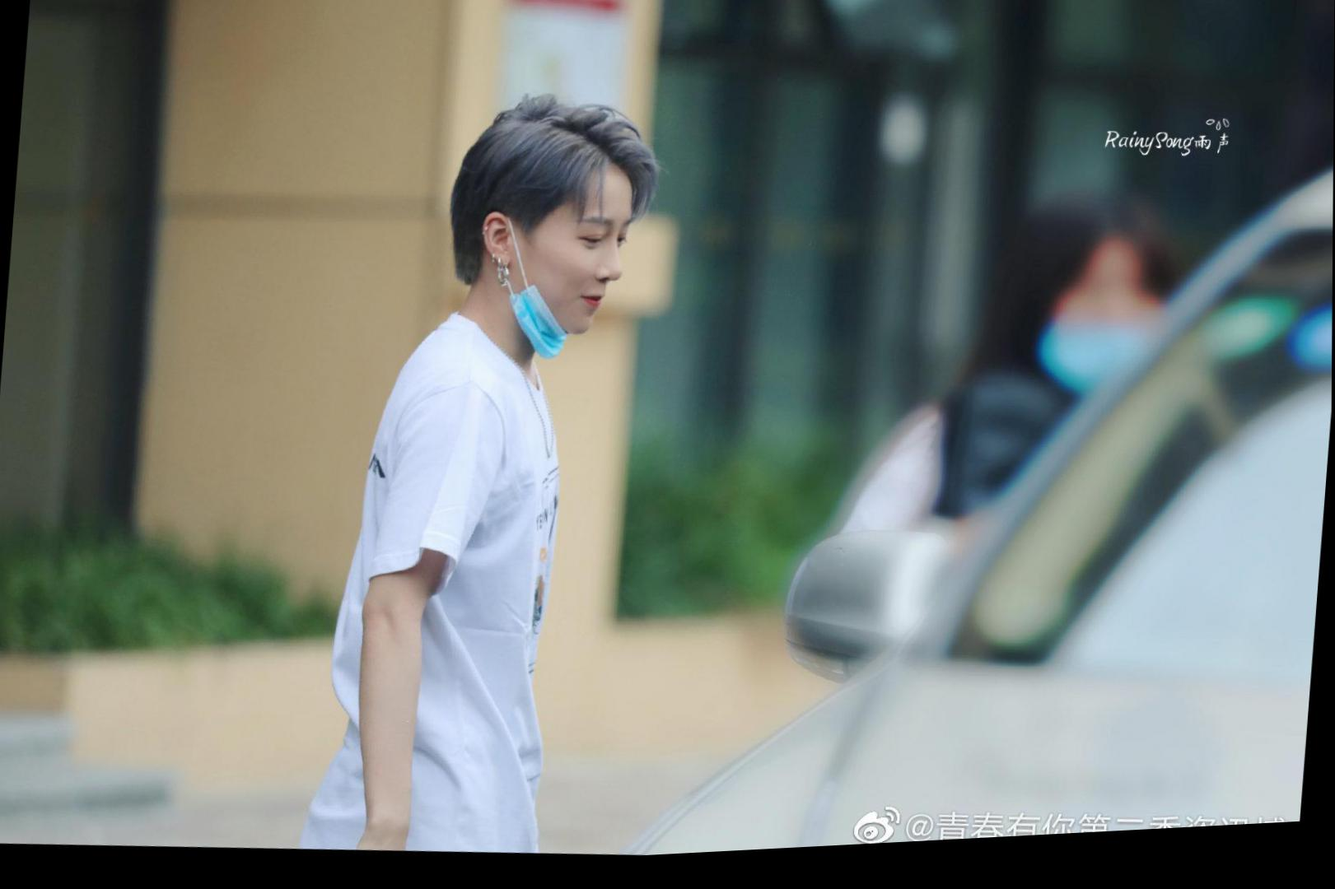WRONG: (513, 191, 637, 352)
